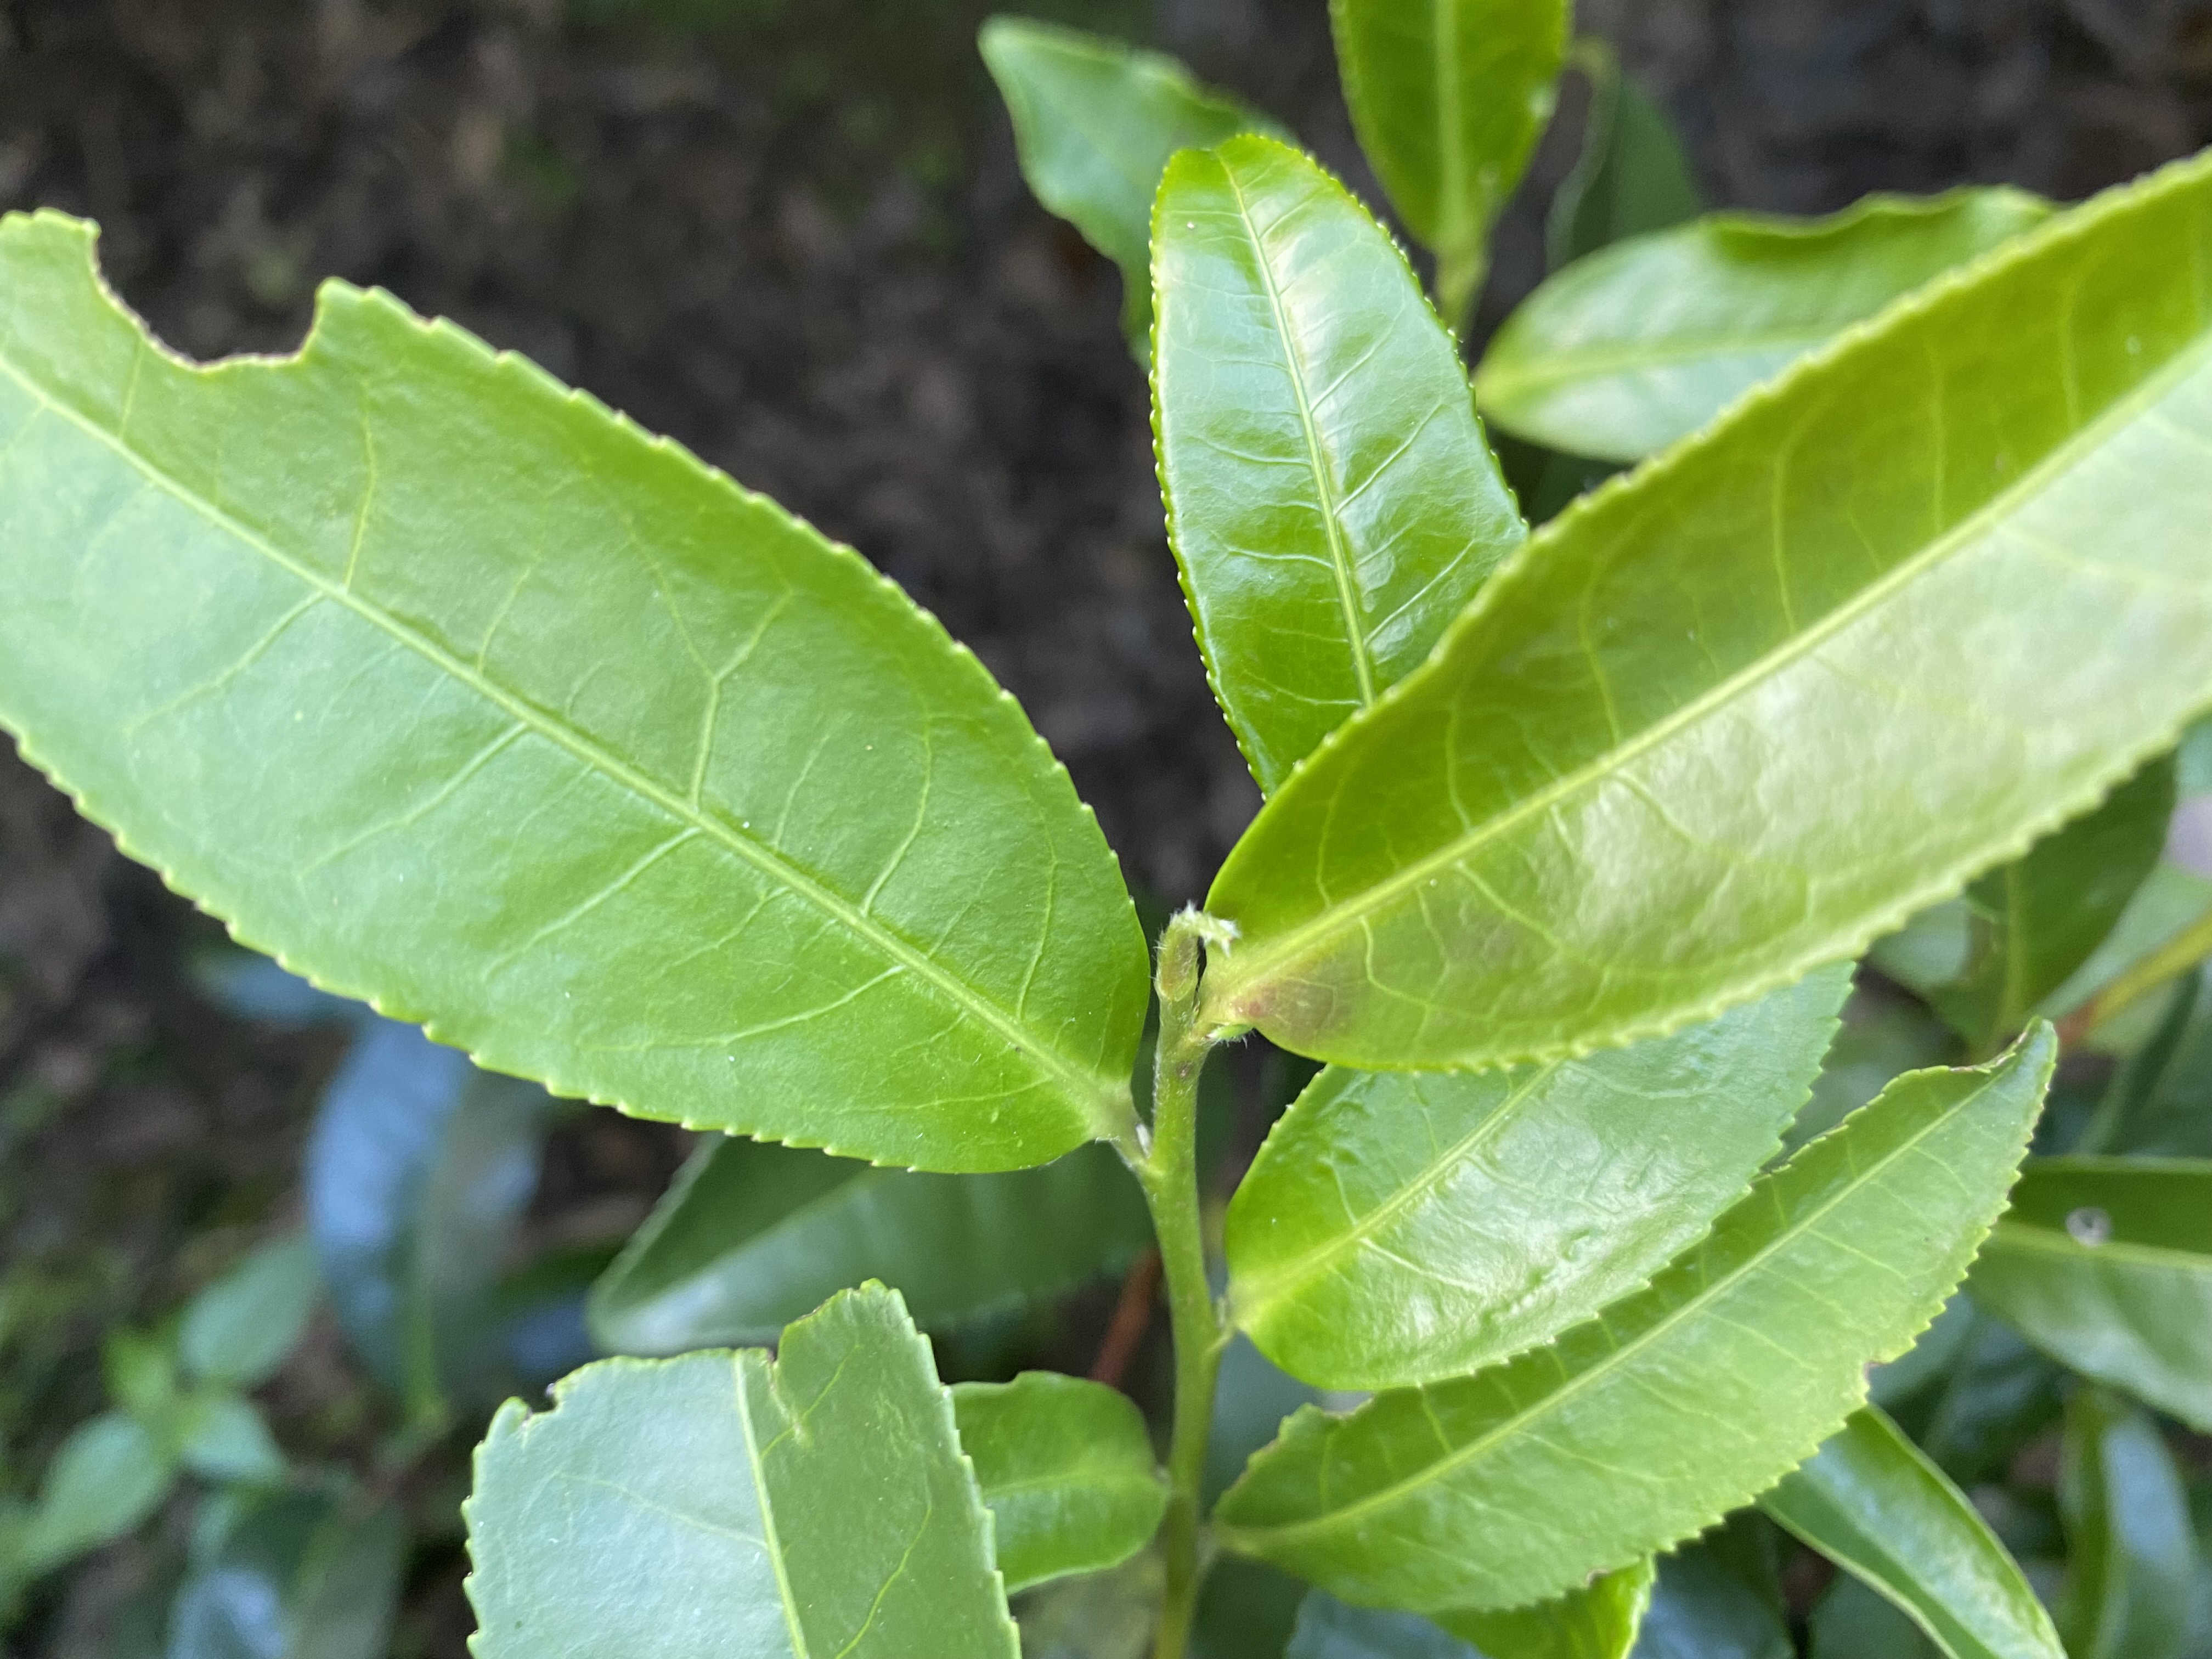chihuo_high: (455, 1277, 1026, 1656)
chihuo_low: (3, 204, 1153, 1178)
healthy: (1202, 148, 2209, 1084), (1221, 962, 1857, 1398), (1144, 132, 1533, 803)
